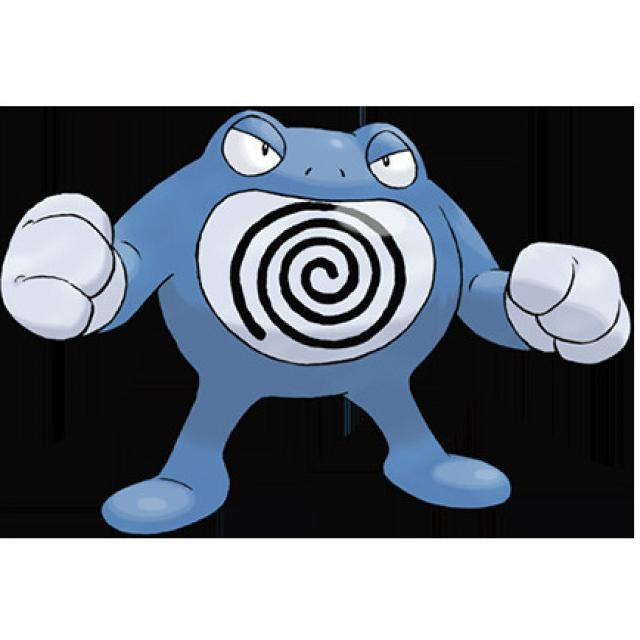Poliwhirl: (34, 109, 617, 528)
